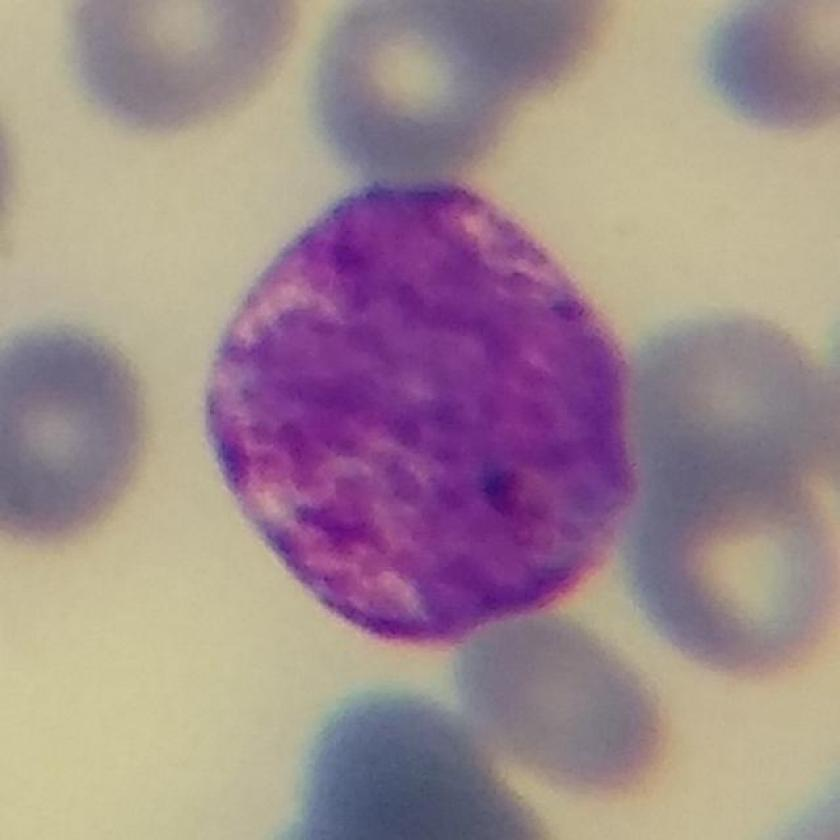basophil: (194, 176, 648, 651)
